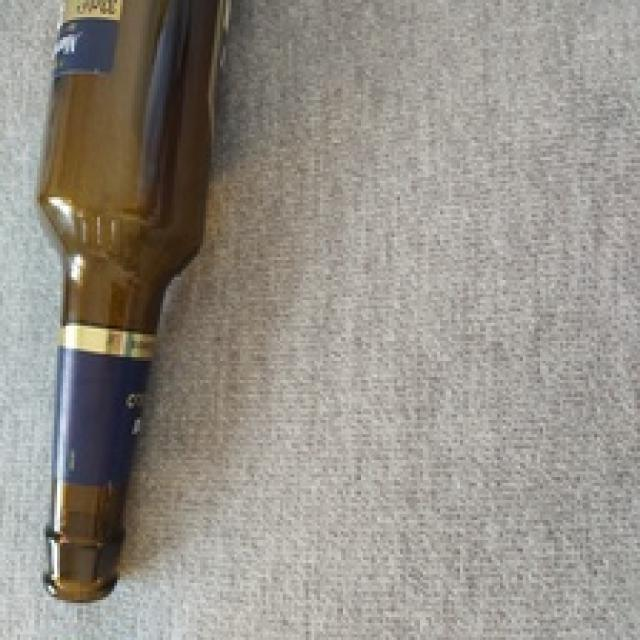garbage: (0, 1, 287, 624)
